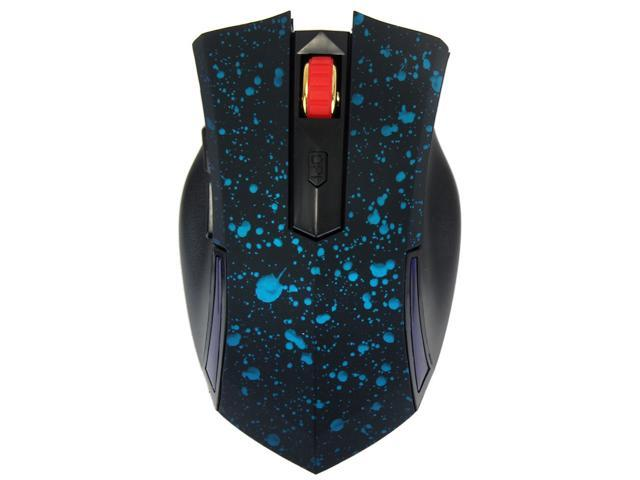Mouse: (161, 5, 478, 480)
